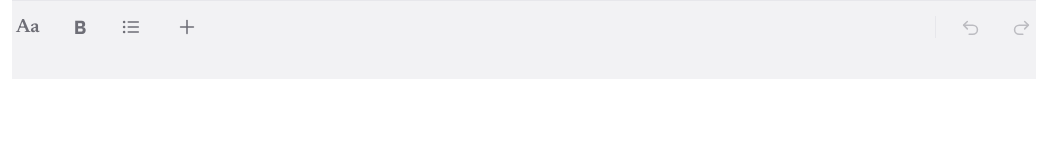
Test: MobileEditorBar — sub-row open/close/swap › tapping the same group closes the sub-row; a different group swaps it
Press the mouse on the button with aria-label "Style": (28, 27) [12,14,44,40]
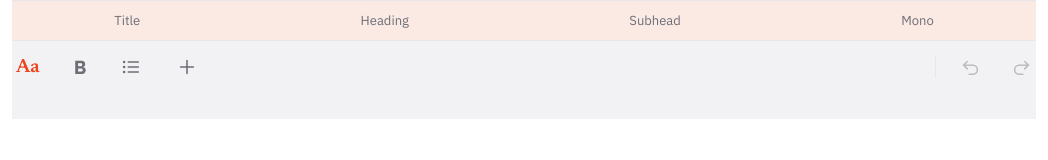
Press the mouse on the button with aria-label "Style": (28, 67) [12,54,44,80]
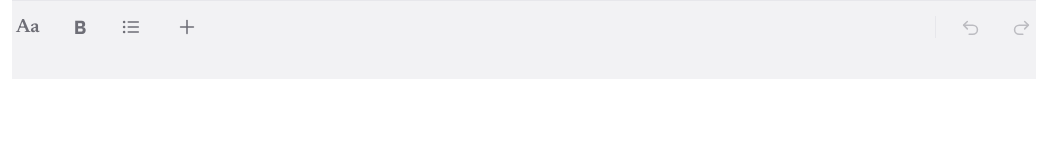
Press the mouse on the button named "Format": (80, 27) [70,14,90,40]
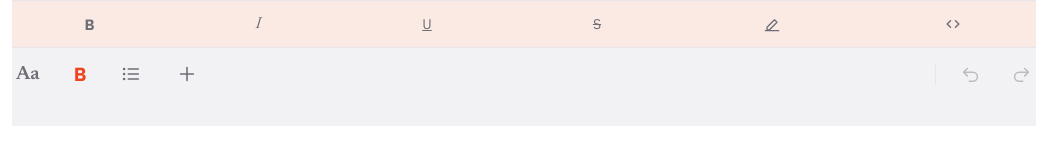
Result: the button named "Bold" is shown at [81,12,99,36]
Press the mouse on the button named "Lists": (131, 74) [116,59,146,89]
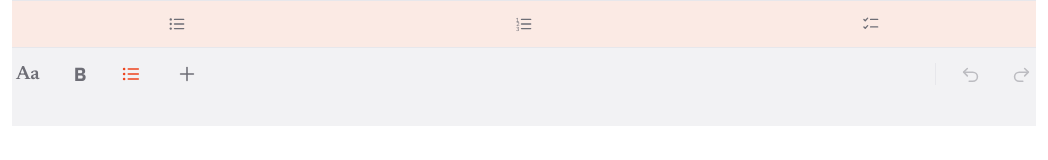
Result: the button named "Bullet list" is shown at [163,10,191,38]
Result: the button labelled "Bold" is gone
